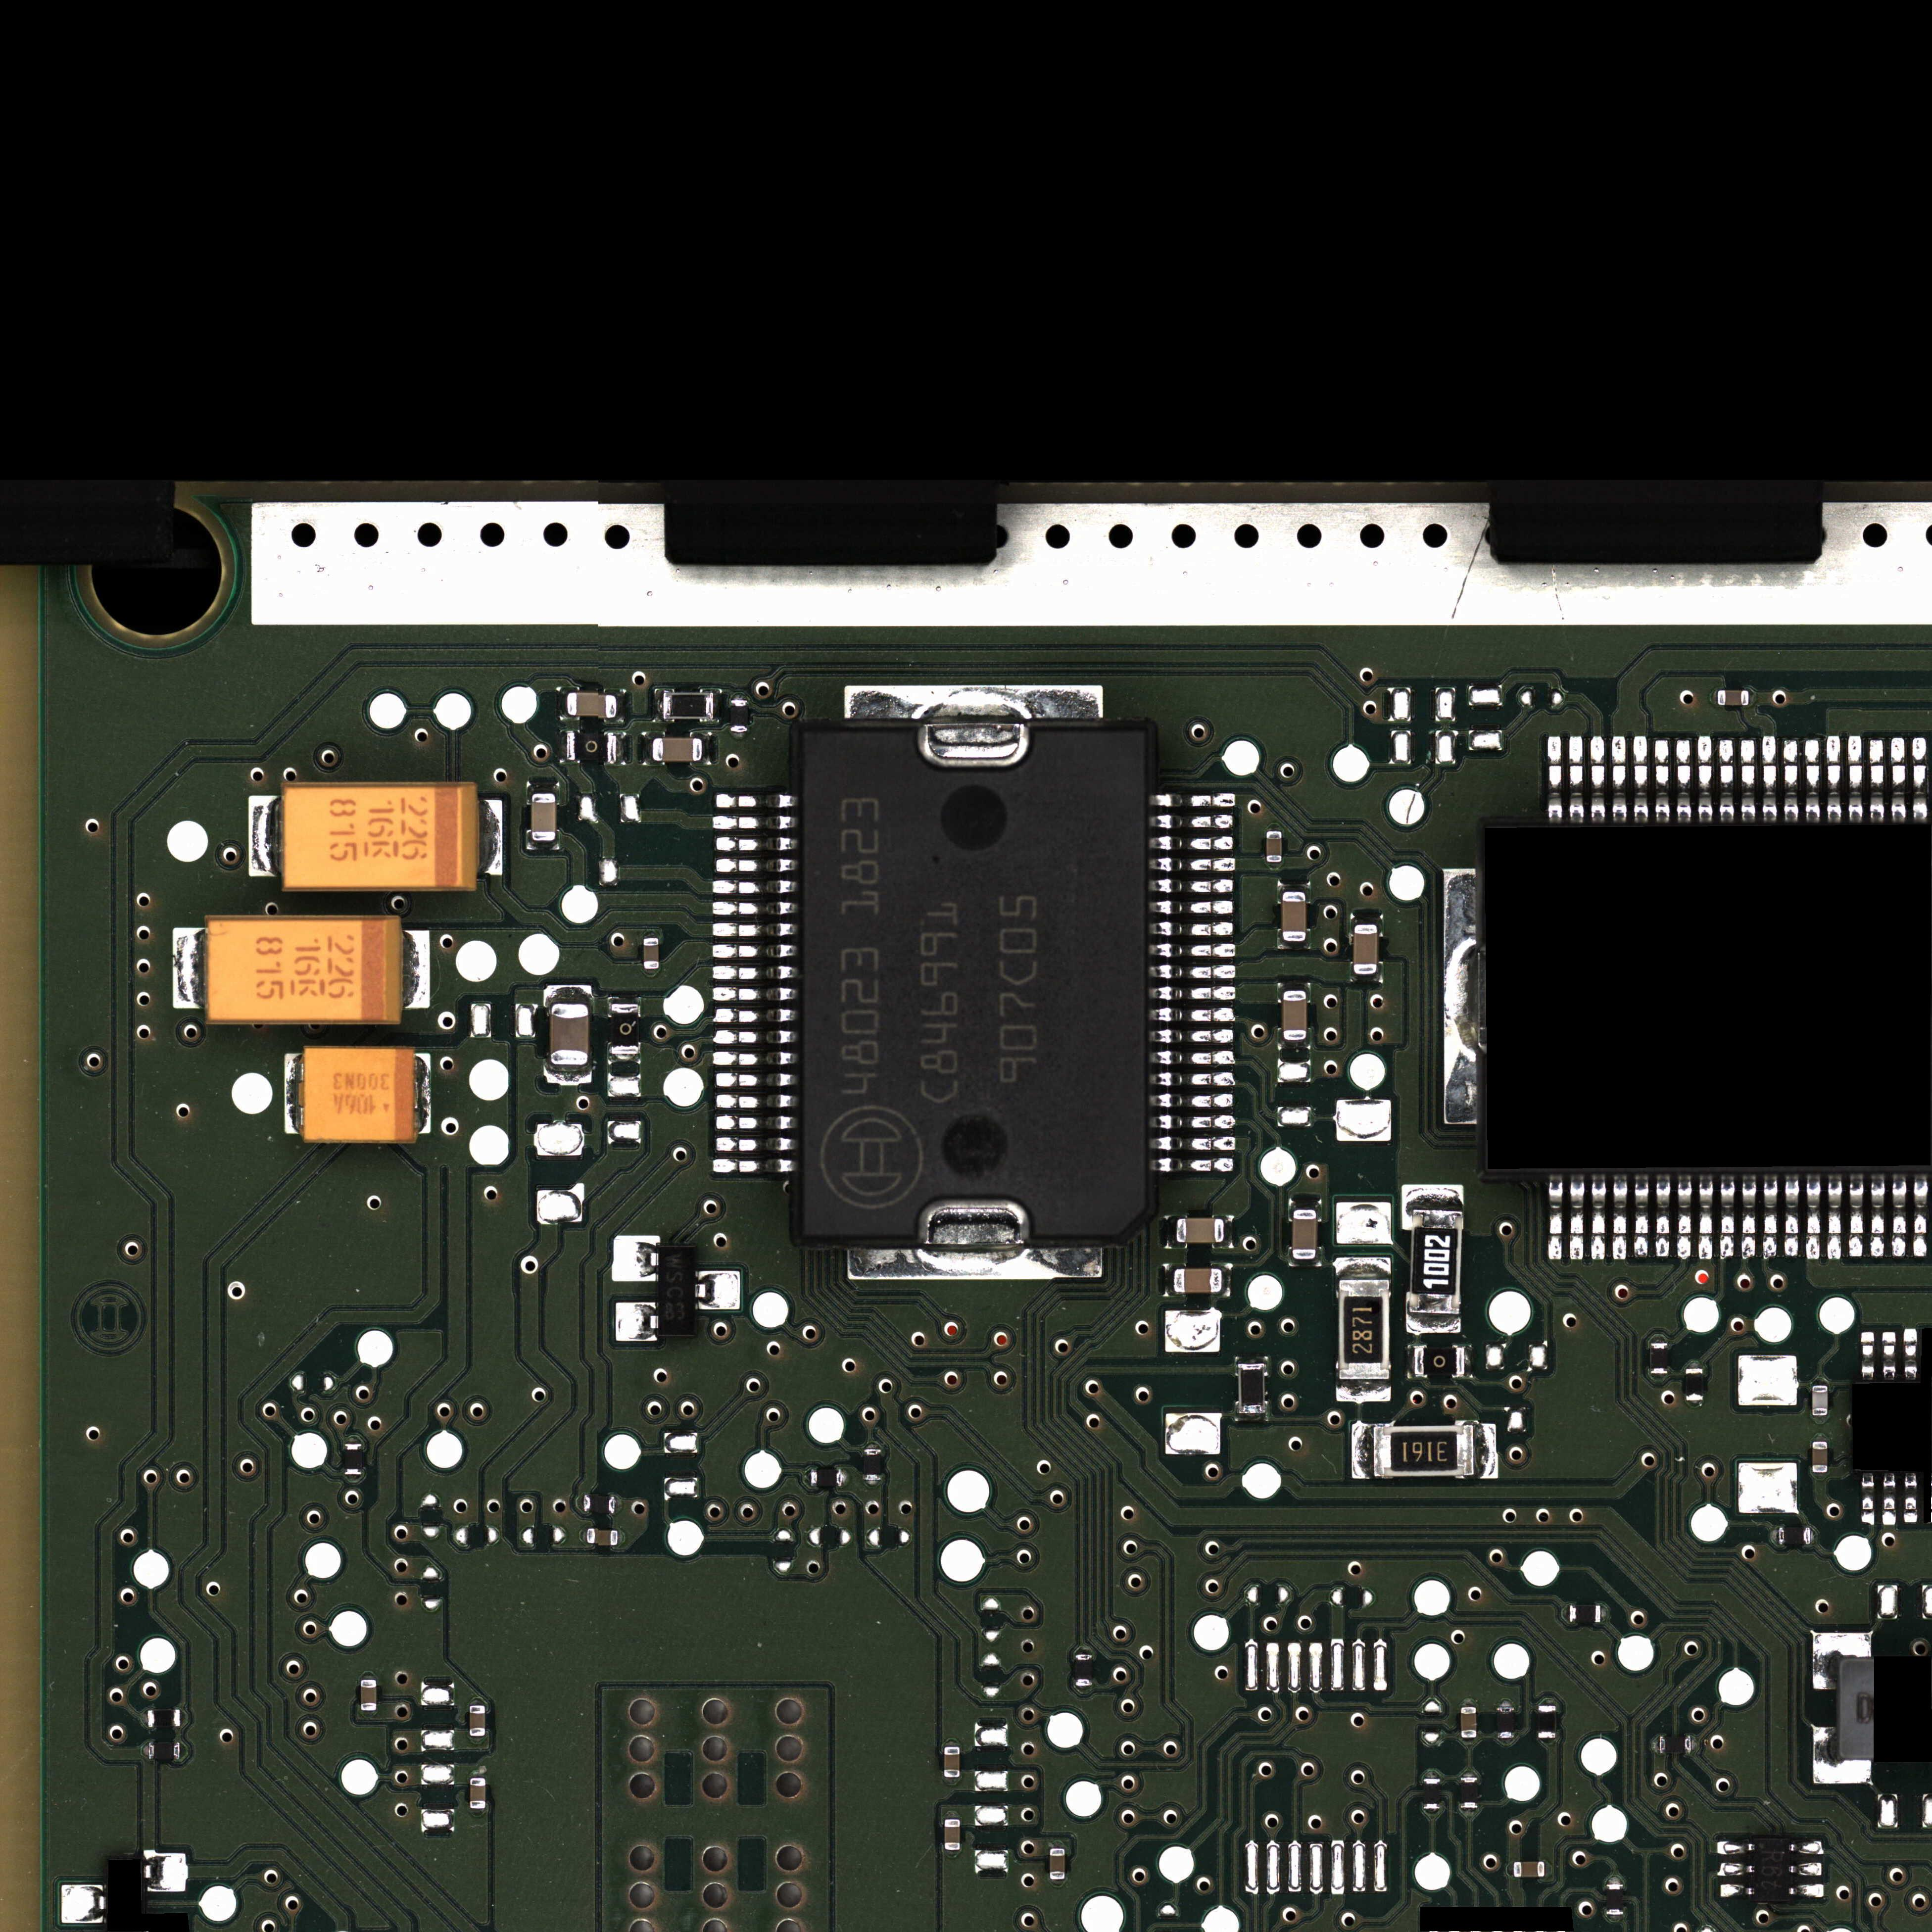Package: (800, 731, 1146, 1237), (281, 786, 479, 888), (207, 918, 402, 1023), (304, 1047, 412, 1143), (1408, 1210, 1461, 1315), (1373, 1426, 1474, 1477), (1338, 1279, 1389, 1380), (658, 1247, 695, 1334), (550, 1005, 589, 1065), (1753, 1838, 1789, 1900), (1414, 1346, 1465, 1376), (566, 732, 616, 763), (610, 1003, 639, 1054), (1238, 1364, 1265, 1414), (1353, 924, 1378, 975), (1177, 1217, 1224, 1244), (568, 692, 616, 718), (663, 694, 713, 718), (1292, 1210, 1316, 1260), (1283, 991, 1307, 1040), (1173, 1269, 1221, 1293), (531, 793, 556, 840), (1283, 892, 1306, 941), (653, 738, 702, 761), (1537, 1706, 1557, 1737), (147, 1709, 180, 1727), (731, 699, 748, 732), (1649, 1343, 1668, 1373), (1569, 1605, 1601, 1622), (810, 1468, 842, 1486), (1076, 1654, 1093, 1686), (863, 1449, 881, 1481), (1686, 1368, 1704, 1399), (149, 1743, 180, 1760), (943, 1746, 961, 1778), (345, 1444, 363, 1476), (1780, 1527, 1810, 1545), (584, 1495, 614, 1513), (1460, 1778, 1477, 1808), (1606, 1884, 1624, 1914), (1497, 1707, 1514, 1737), (1718, 690, 1750, 706), (1660, 1737, 1691, 1753), (945, 1819, 961, 1851), (361, 1679, 377, 1711), (587, 1529, 617, 1545), (1514, 1861, 1545, 1877), (1461, 1707, 1477, 1737), (1424, 1778, 1440, 1808), (1812, 1385, 1828, 1415), (1049, 1849, 1065, 1879), (1812, 1442, 1828, 1472), (1267, 832, 1283, 862), (469, 1706, 485, 1736), (644, 938, 658, 970), (471, 1778, 485, 1808)
Solder: (844, 685, 1104, 729), (847, 1237, 1102, 1281), (1442, 869, 1479, 1125), (1812, 1631, 1874, 1690), (1812, 1727, 1872, 1783), (173, 927, 203, 1008), (248, 796, 278, 878), (612, 1237, 658, 1281), (405, 931, 430, 1008), (145, 1851, 189, 1891), (695, 1270, 740, 1309), (60, 1884, 104, 1923), (1760, 1175, 1780, 1261), (1868, 1175, 1888, 1260), (1652, 1175, 1672, 1260), (283, 1053, 303, 1136), (1911, 1175, 1930, 1258), (481, 800, 502, 876), (616, 1302, 656, 1341), (1847, 734, 1865, 823), (1826, 734, 1844, 823), (1805, 1175, 1822, 1261), (1826, 1175, 1844, 1261), (1697, 1175, 1714, 1261), (1589, 1175, 1606, 1261), (1546, 1175, 1564, 1261), (1589, 734, 1606, 821), (1610, 734, 1628, 821), (1631, 734, 1649, 821), (1760, 734, 1778, 821), (1868, 736, 1886, 823), (1805, 736, 1822, 823), (1890, 736, 1907, 823), (1911, 736, 1928, 823), (1847, 1175, 1865, 1260), (1739, 1175, 1757, 1260), (1718, 1175, 1736, 1260), (1675, 1175, 1693, 1260), (1610, 1175, 1628, 1260), (1546, 734, 1564, 819), (1568, 734, 1585, 819), (1652, 736, 1670, 821), (1718, 736, 1736, 821), (1739, 736, 1757, 821), (1403, 1185, 1463, 1210), (1890, 1175, 1907, 1258), (1783, 1175, 1801, 1258), (1150, 964, 1237, 980), (1150, 943, 1237, 959), (711, 964, 798, 980), (1633, 1175, 1649, 1261), (1569, 1173, 1585, 1260), (1697, 734, 1713, 821), (1783, 736, 1799, 823), (1150, 1007, 1235, 1023), (1150, 1136, 1235, 1152), (711, 879, 796, 895), (1150, 856, 1235, 872), (1150, 985, 1235, 1001), (1150, 1115, 1235, 1131), (711, 922, 796, 938), (711, 901, 796, 916), (711, 943, 796, 959), (1675, 736, 1691, 821), (1150, 878, 1233, 893), (1150, 1157, 1233, 1173), (1150, 835, 1233, 851), (1150, 922, 1233, 938), (1150, 1093, 1233, 1109), (1150, 814, 1233, 830), (713, 1051, 796, 1067), (1152, 793, 1235, 809), (715, 1115, 798, 1131), (713, 816, 796, 832), (715, 1093, 798, 1109), (715, 794, 796, 810), (715, 1072, 796, 1088), (416, 1053, 432, 1134), (1336, 1380, 1391, 1403), (711, 987, 798, 1001), (1476, 1422, 1497, 1479), (1352, 1422, 1373, 1479), (711, 1159, 796, 1173), (1150, 1030, 1235, 1044), (1150, 1051, 1235, 1065), (1150, 1072, 1235, 1086), (713, 1008, 796, 1023), (1150, 901, 1233, 915), (713, 1030, 796, 1044), (715, 858, 798, 872), (715, 837, 798, 851), (1336, 1258, 1391, 1279), (715, 1138, 796, 1152), (1407, 1315, 1461, 1334), (545, 1065, 593, 1085), (543, 985, 593, 1003), (1881, 1330, 1898, 1380), (1859, 1472, 1875, 1527), (1881, 1472, 1897, 1527), (1902, 1329, 1918, 1380), (1904, 1472, 1920, 1523), (1859, 1332, 1875, 1380), (1716, 1842, 1753, 1854), (1790, 1840, 1822, 1854), (1718, 1863, 1753, 1875), (1790, 1884, 1824, 1897), (1720, 1884, 1753, 1897), (1790, 1863, 1822, 1875), (642, 732, 653, 764), (653, 688, 663, 720), (557, 688, 568, 720), (1277, 881, 1309, 892), (527, 782, 559, 793), (1350, 915, 1384, 924), (1277, 982, 1311, 991), (1277, 1040, 1311, 1049), (527, 842, 559, 851), (1164, 1265, 1173, 1297), (1224, 1215, 1233, 1247), (1223, 1265, 1231, 1297), (702, 732, 711, 764), (1277, 941, 1309, 950), (1290, 1200, 1322, 1208), (609, 1054, 640, 1063), (617, 732, 626, 764), (1166, 1215, 1175, 1247), (617, 690, 626, 722), (713, 690, 722, 722), (1235, 1414, 1269, 1421), (1465, 1345, 1472, 1378), (1235, 1355, 1269, 1362), (1407, 1345, 1414, 1378), (1350, 975, 1382, 982), (1290, 1260, 1322, 1267), (609, 996, 640, 1003), (559, 731, 566, 761), (1074, 1645, 1092, 1654), (1499, 1698, 1514, 1707), (729, 732, 748, 740), (1537, 1698, 1557, 1706), (1649, 1375, 1668, 1382), (1074, 1686, 1093, 1693), (180, 1709, 188, 1727), (469, 1736, 487, 1743), (642, 931, 660, 938), (345, 1437, 363, 1444), (180, 1743, 188, 1760), (142, 1743, 149, 1760), (359, 1711, 377, 1718), (943, 1739, 961, 1746), (943, 1812, 961, 1819), (1652, 1736, 1660, 1753), (863, 1442, 881, 1449), (1606, 1877, 1624, 1884), (469, 1698, 487, 1706), (1562, 1605, 1569, 1622), (1601, 1605, 1608, 1622), (1651, 1336, 1668, 1343), (469, 1810, 487, 1817), (1422, 1771, 1440, 1778), (577, 1495, 584, 1513), (943, 1778, 961, 1785), (1461, 1769, 1477, 1776), (1812, 1378, 1828, 1385), (1267, 862, 1283, 869), (945, 1851, 961, 1858), (1545, 1861, 1552, 1877), (580, 1527, 587, 1543), (1461, 1737, 1477, 1744), (1711, 690, 1718, 706), (361, 1672, 377, 1679), (471, 1771, 487, 1778), (1812, 1472, 1828, 1479), (644, 970, 660, 977), (1506, 1861, 1513, 1877), (842, 1468, 849, 1484), (1773, 1527, 1778, 1546), (1461, 1700, 1476, 1707), (1539, 1739, 1557, 1744), (619, 1529, 625, 1546), (731, 694, 748, 699), (1049, 1842, 1067, 1847), (1686, 1362, 1704, 1368), (863, 1481, 881, 1486), (1691, 1736, 1697, 1753), (1810, 1527, 1815, 1545), (345, 1476, 363, 1481), (1606, 1916, 1624, 1921), (142, 1709, 147, 1727), (1049, 1881, 1065, 1886), (805, 1470, 810, 1486), (1812, 1435, 1828, 1440), (1750, 690, 1755, 706), (1267, 824, 1283, 830), (1499, 1739, 1514, 1744), (1424, 1810, 1440, 1815)
